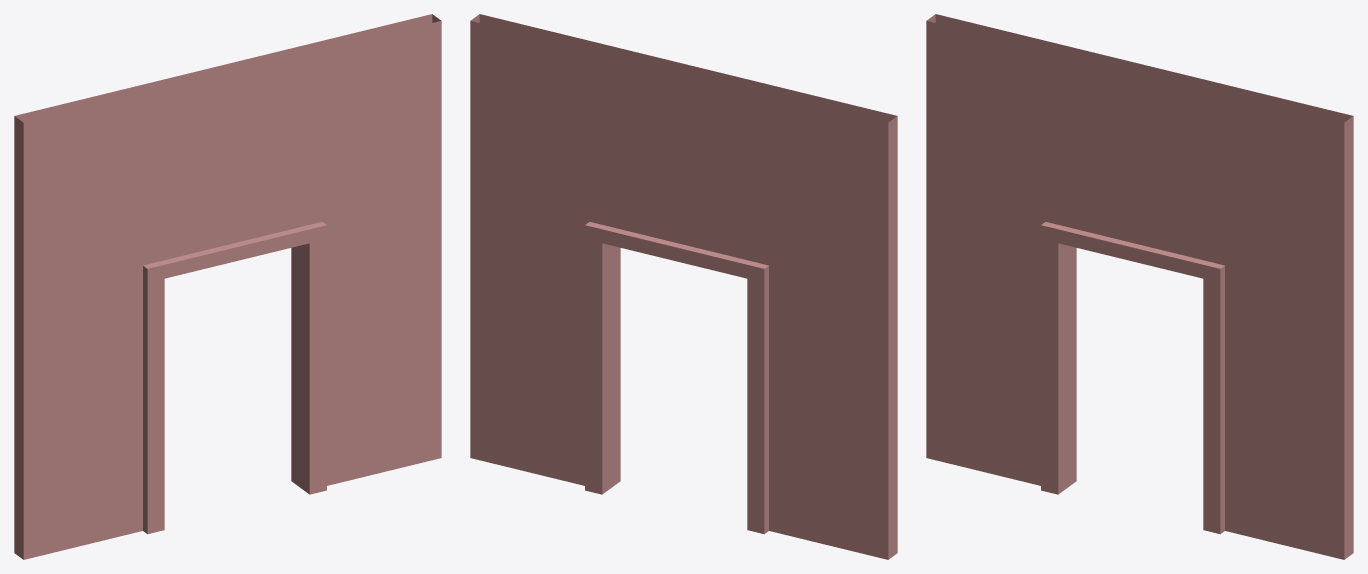
Rendered from Door_Frame_HallwayToStorage.FBX.
3 views of the same model, side by side, from view 1: azimuth 30°, elevation 25°; view 2: azimuth 150°, elevation 25°; view 3: azimuth 330°, elevation 25° (orthographic).
Parts seen in each view (by area): view 1: Door_Frame_HallwayToStorage; view 2: Door_Frame_HallwayToStorage; view 3: Door_Frame_HallwayToStorage.
Part boxes in pixels (<box>): Door_Frame_HallwayToStorage: <box>14,14,441,559</box>; Door_Frame_HallwayToStorage: <box>470,14,897,559</box>; Door_Frame_HallwayToStorage: <box>926,14,1353,559</box>.
Bounding box in the file's own units: 5.04 × 5.04 × 0.3873.
